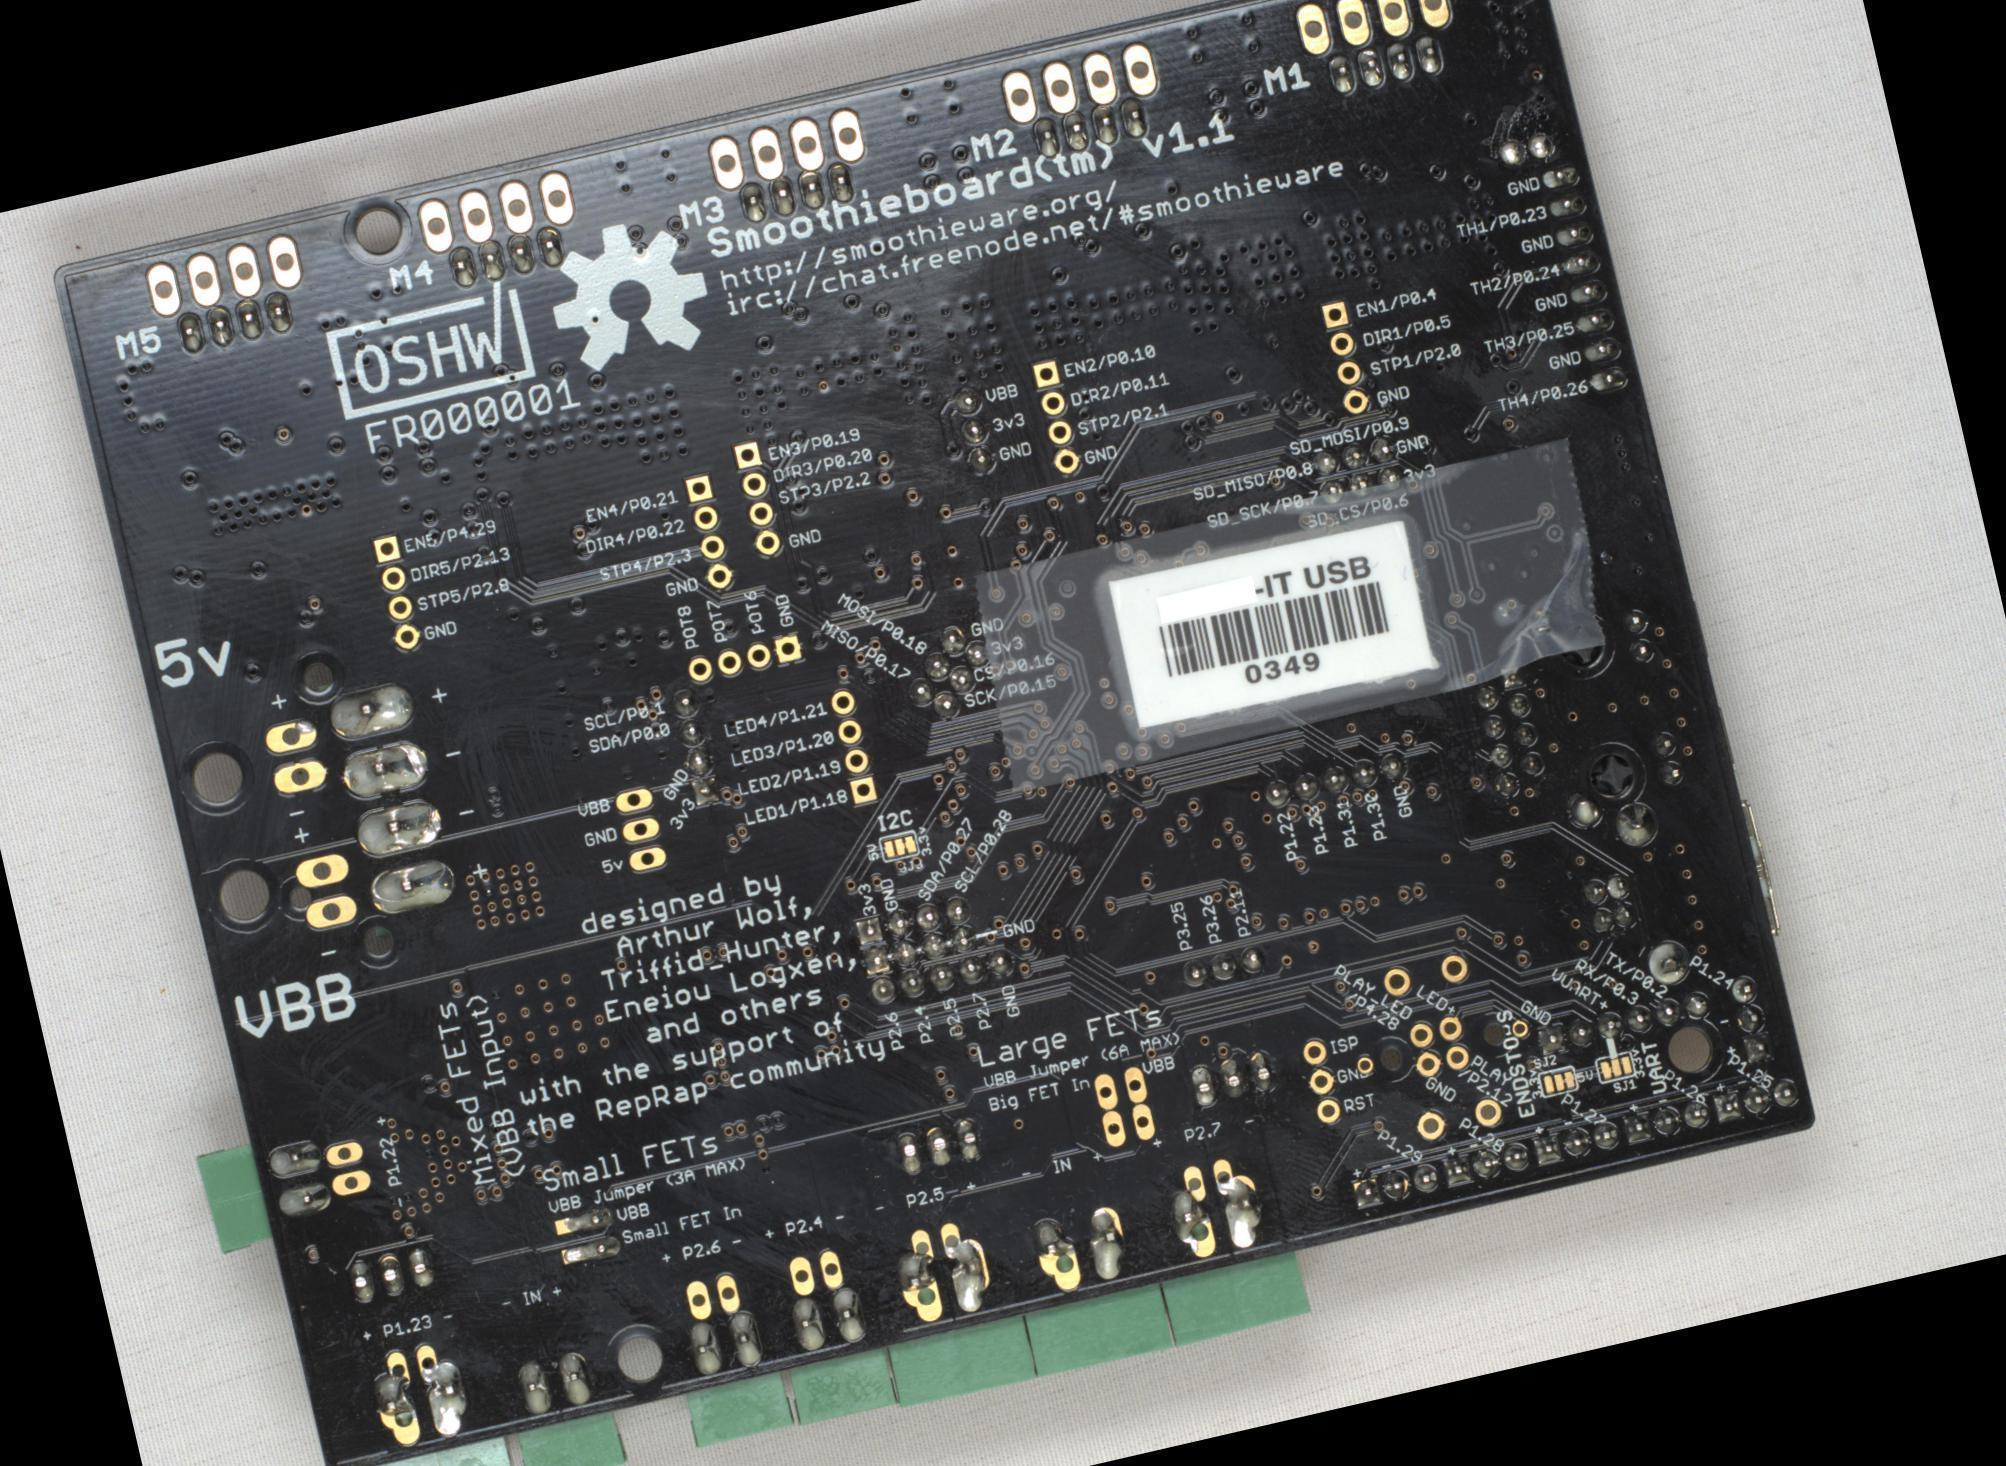Connector: (409, 162, 583, 261), (700, 99, 870, 195), (137, 228, 310, 322), (995, 36, 1167, 129), (1291, 0, 1457, 61), (681, 628, 808, 689), (1026, 353, 1086, 481), (366, 528, 425, 656), (727, 435, 785, 564), (1315, 292, 1373, 419), (257, 710, 334, 804), (681, 470, 738, 595), (825, 685, 880, 810), (291, 847, 360, 937), (610, 781, 671, 877), (1090, 1063, 1156, 1148), (1405, 1011, 1472, 1080), (1379, 949, 1471, 999), (1298, 1034, 1346, 1128), (1412, 1093, 1504, 1142), (318, 1136, 372, 1200), (783, 1248, 846, 1302), (680, 1270, 742, 1322)
Pads: (1536, 1063, 1579, 1098), (878, 829, 920, 863), (1593, 1048, 1635, 1082)
Pins: (1347, 1075, 1802, 1210), (323, 675, 460, 921), (1540, 159, 1630, 397), (885, 1213, 998, 1328), (360, 1336, 473, 1451), (1467, 658, 1552, 810), (1160, 1150, 1271, 1266), (894, 617, 1004, 728), (1534, 988, 1712, 1056), (850, 893, 979, 976), (863, 943, 1017, 1010), (1027, 1201, 1133, 1298), (1258, 746, 1410, 811), (172, 287, 301, 357), (1026, 92, 1153, 162), (1324, 30, 1448, 101), (445, 222, 570, 292), (734, 157, 859, 226), (1310, 435, 1403, 508), (668, 685, 722, 809), (508, 1346, 597, 1420), (343, 1240, 441, 1307), (890, 1114, 986, 1180), (262, 1133, 334, 1220), (684, 1306, 766, 1381), (1186, 1046, 1282, 1108), (787, 1285, 870, 1355), (949, 381, 1001, 480), (1175, 939, 1270, 993), (1725, 971, 1775, 1066), (548, 1206, 623, 1269), (1579, 867, 1641, 937), (1608, 795, 1665, 852), (1639, 933, 1696, 990), (1618, 601, 1660, 671), (1648, 722, 1690, 792), (1492, 126, 1557, 170)
